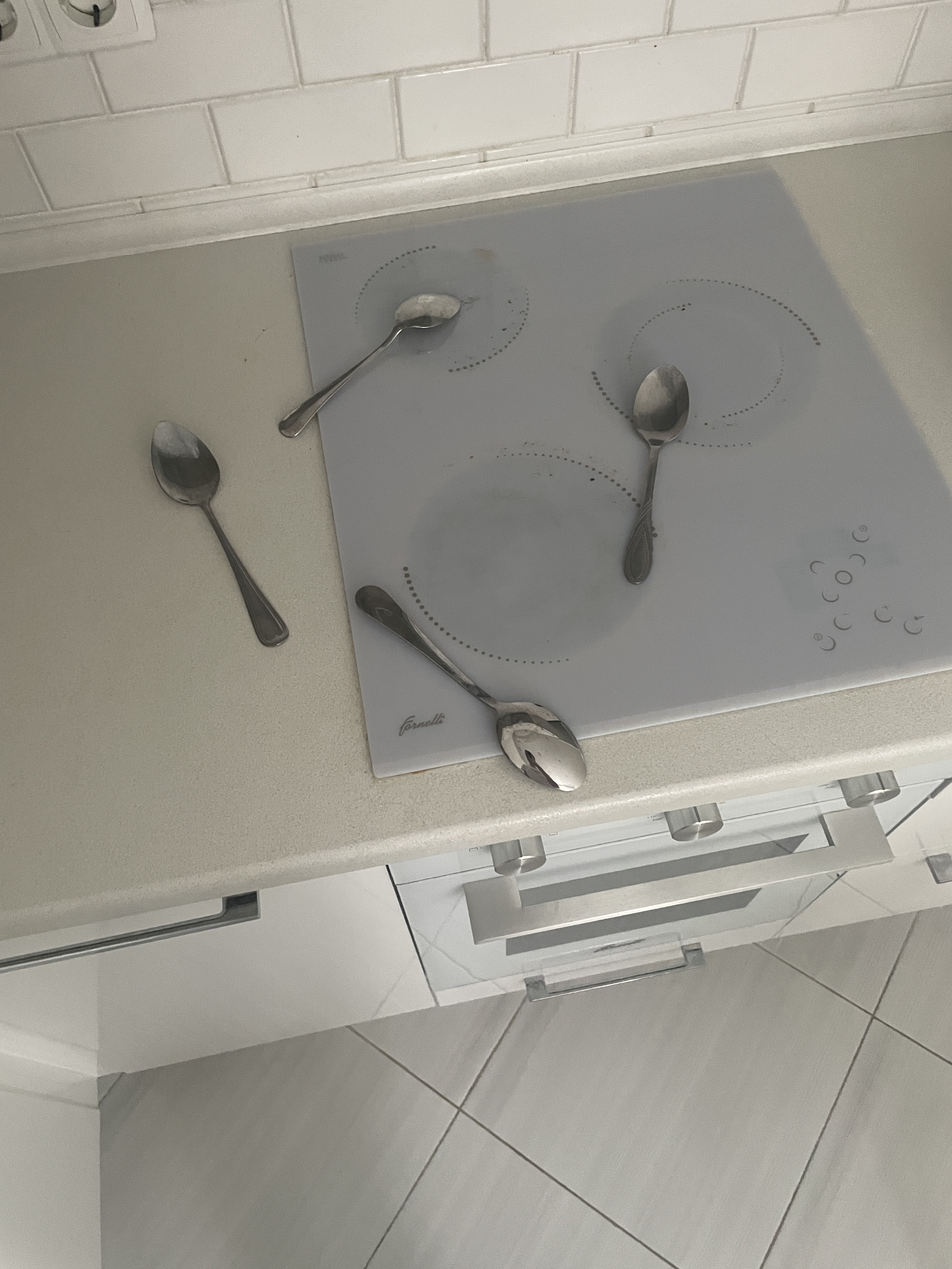spoon: (355, 585, 586, 791), (151, 421, 289, 647), (279, 294, 461, 437), (624, 365, 690, 584)
